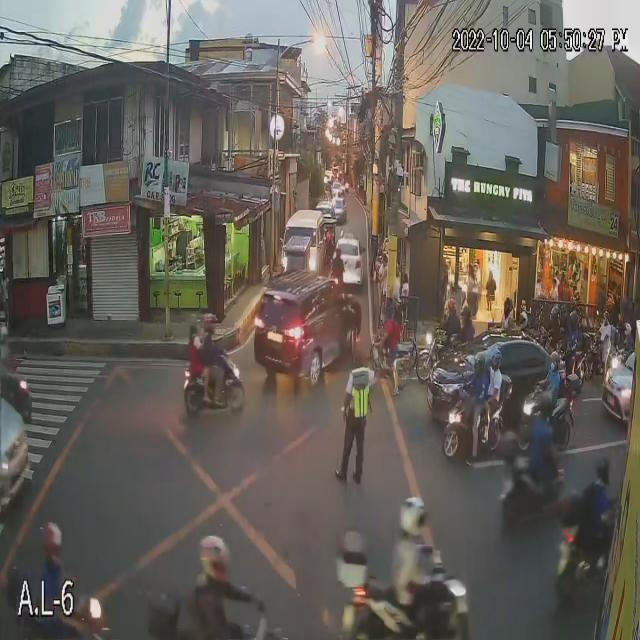helmet: (199, 535, 228, 584), (398, 495, 426, 542), (39, 527, 68, 567), (591, 455, 616, 490), (537, 389, 556, 420), (441, 296, 461, 320), (470, 353, 486, 381), (203, 311, 218, 335), (460, 306, 476, 326), (489, 349, 501, 373), (500, 298, 513, 320), (547, 351, 559, 372), (516, 311, 529, 327), (0, 324, 9, 347), (549, 306, 560, 324), (334, 241, 345, 257), (601, 310, 613, 324), (571, 310, 579, 331), (623, 322, 632, 337)
motorcycle: (334, 546, 468, 640), (0, 576, 117, 640), (142, 595, 289, 640), (554, 501, 620, 600), (498, 448, 568, 524), (442, 388, 505, 461), (521, 381, 583, 448), (189, 357, 245, 417), (414, 329, 450, 376), (0, 368, 30, 415), (579, 341, 603, 377), (328, 266, 347, 296), (610, 346, 630, 374)
rider: (381, 495, 437, 604), (188, 536, 240, 629), (579, 452, 616, 552), (29, 523, 73, 607), (523, 391, 560, 477), (462, 349, 488, 423), (182, 317, 212, 380), (485, 345, 508, 411), (540, 349, 563, 409), (202, 311, 223, 366), (438, 293, 458, 343), (0, 318, 13, 389), (457, 307, 478, 344), (598, 308, 614, 352), (499, 297, 515, 340), (564, 310, 580, 350), (548, 306, 563, 348), (517, 309, 532, 340), (621, 318, 634, 350), (332, 245, 344, 278)
